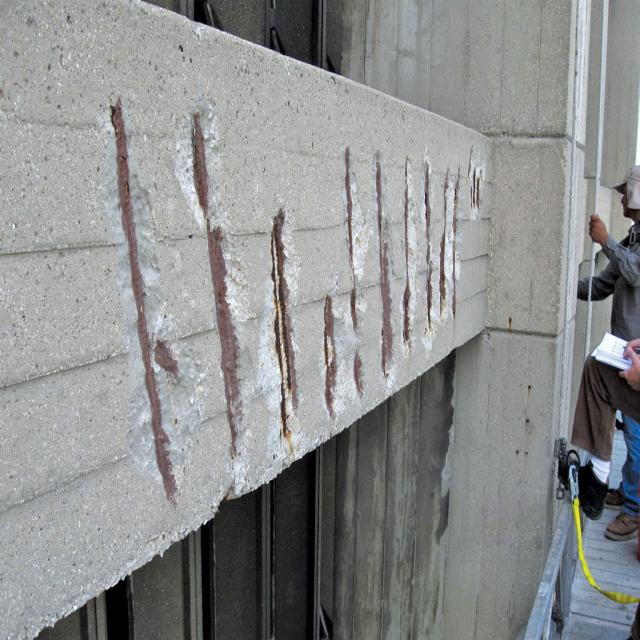Spalling: (92, 92, 483, 483)
